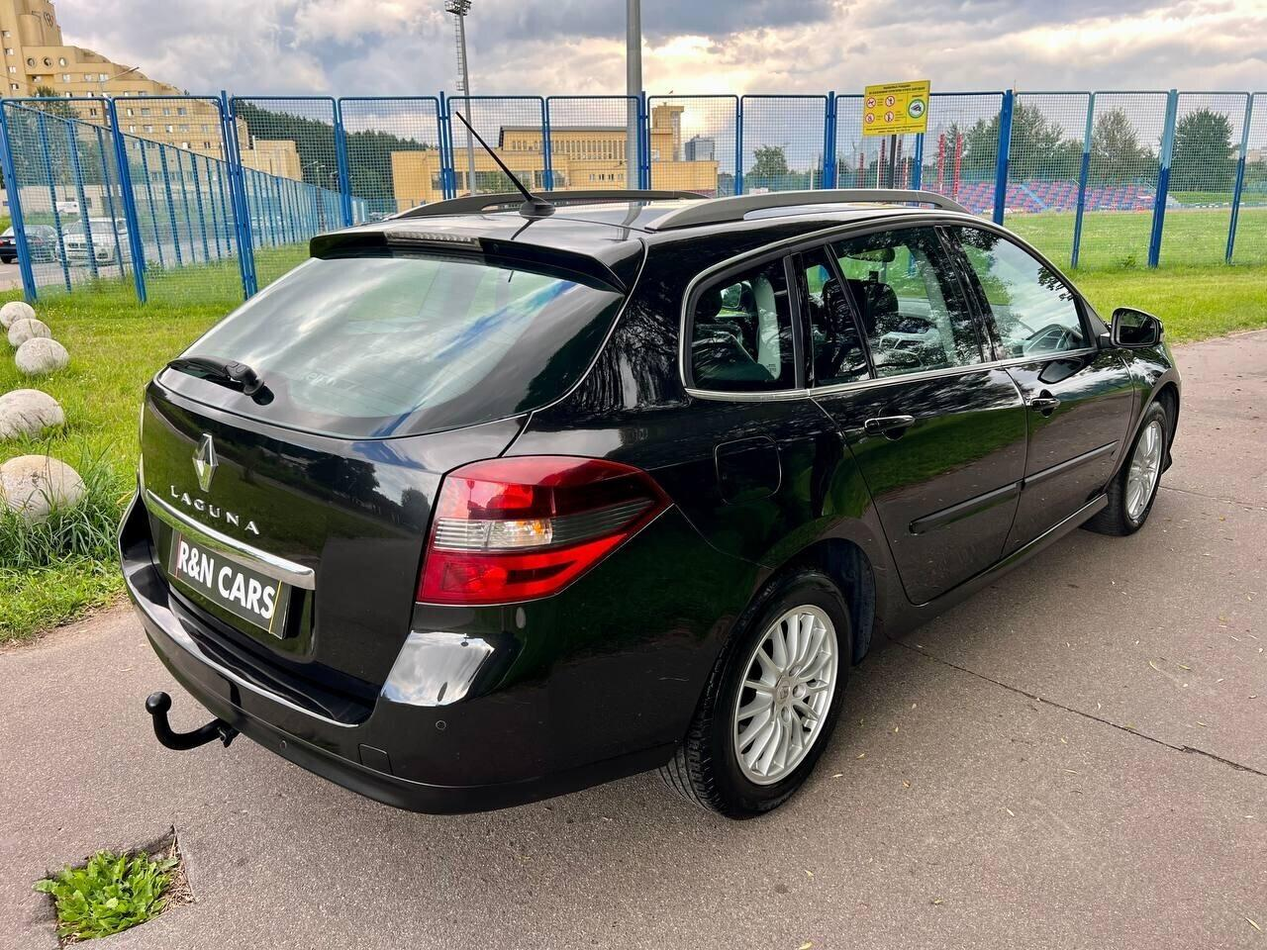Laguna_2010-2015: (95, 187, 1194, 831)
